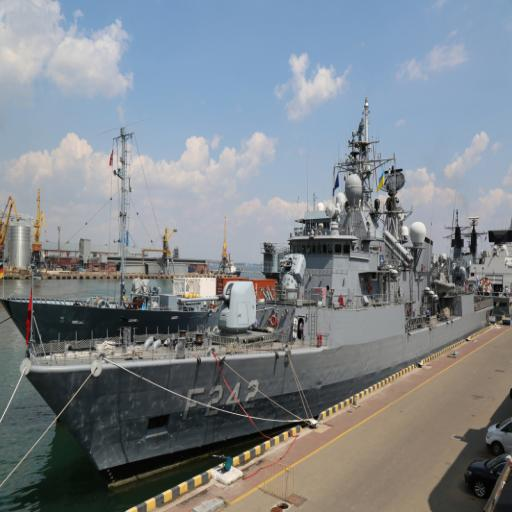Fragata: (19, 82, 498, 495)
